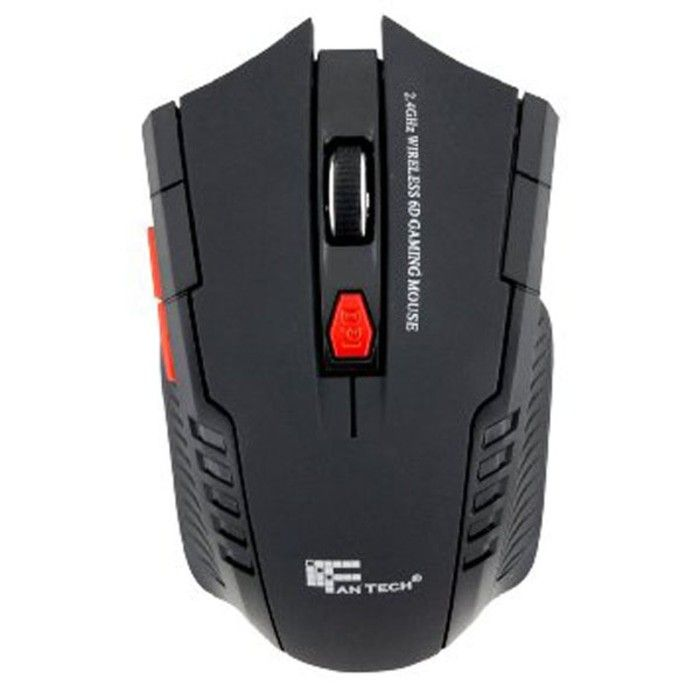Mouse: (131, 8, 572, 689)
